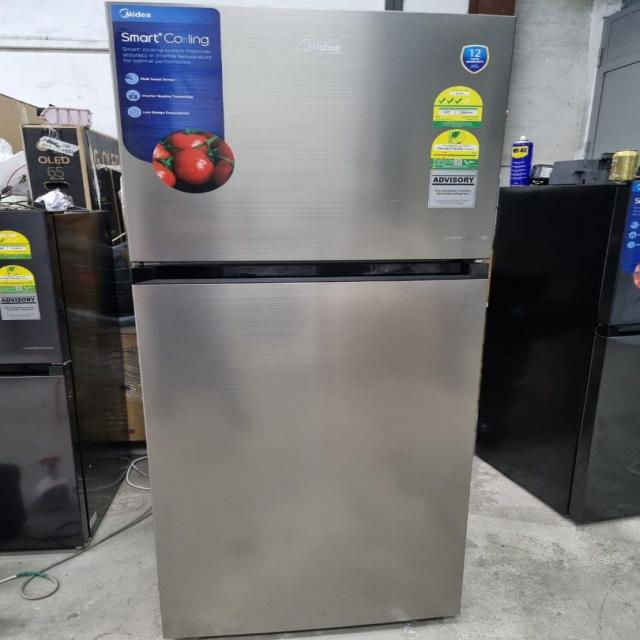refrigerator: (103, 0, 522, 640)
